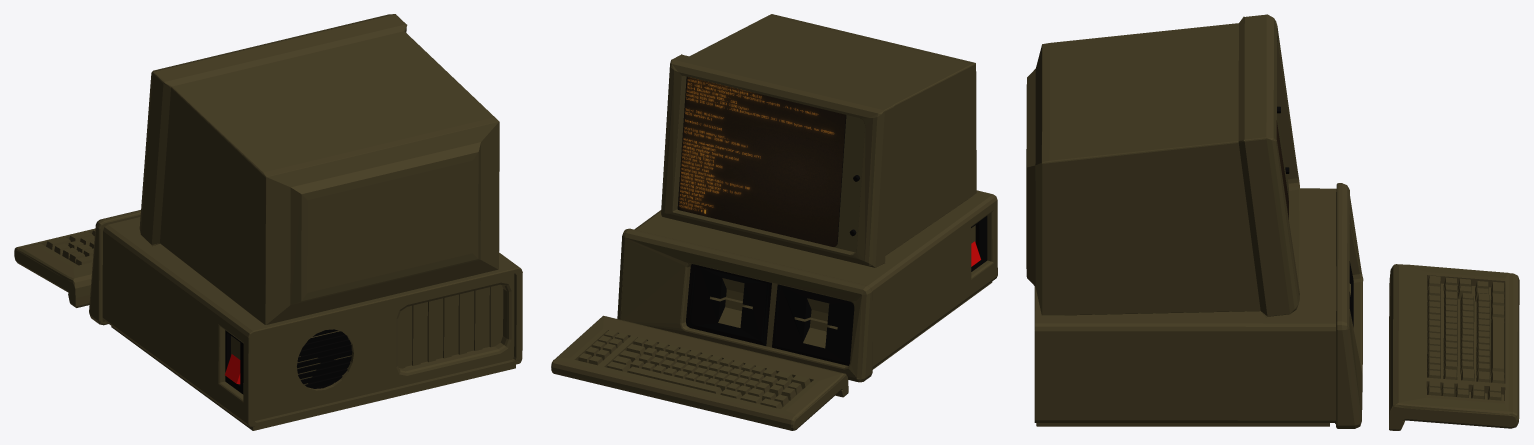
The model's file is ibm2.obj.
3 renders of one model, left to right at view 1: azimuth 30°, elevation 25°; view 2: azimuth 150°, elevation 25°; view 3: azimuth 270°, elevation 25°, orthographic. The views are drawn at different scales.
Visible parts, largest first — view 1: computor_:FullComputer; view 2: computor_:FullComputer; view 3: computor_:FullComputer.
Part boxes in pixels (<box>): computor_:FullComputer: <box>14,14,522,430</box>; computor_:FullComputer: <box>551,14,997,430</box>; computor_:FullComputer: <box>1026,14,1519,430</box>.
Size of the model in its own units: 0.6845 by 0.643 by 1.
